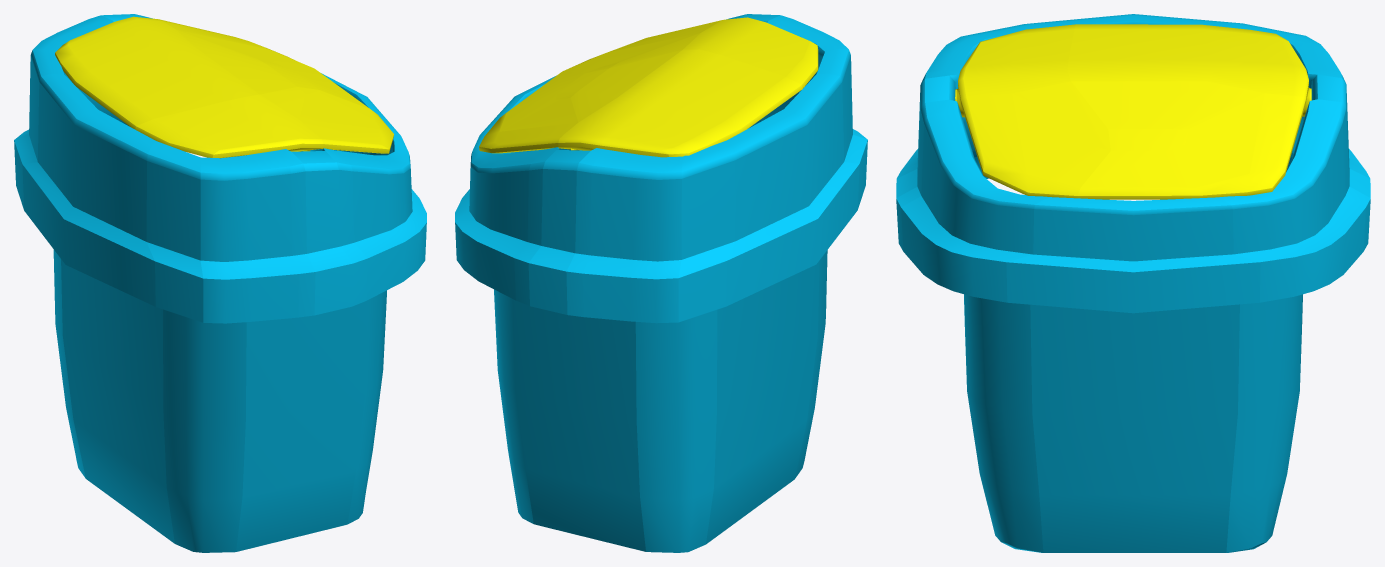
File: dustbin.glb
3 renders of one model, left to right at view 1: azimuth 30°, elevation 25°; view 2: azimuth 150°, elevation 25°; view 3: azimuth 270°, elevation 25°, orthographic. The views are drawn at different scales.
Visible parts, largest first — view 1: polySurface2, polySurface1; view 2: polySurface2, polySurface1; view 3: polySurface2, polySurface1.
Part boxes in pixels (x1,y1,x2,y2): polySurface2: (14, 14, 426, 552); polySurface1: (55, 16, 393, 158); polySurface2: (455, 14, 867, 552); polySurface1: (479, 17, 818, 157); polySurface2: (896, 14, 1370, 552); polySurface1: (955, 24, 1311, 199).
Bounding box in the file's own units: 0.1333 × 0.1718 × 0.169.
